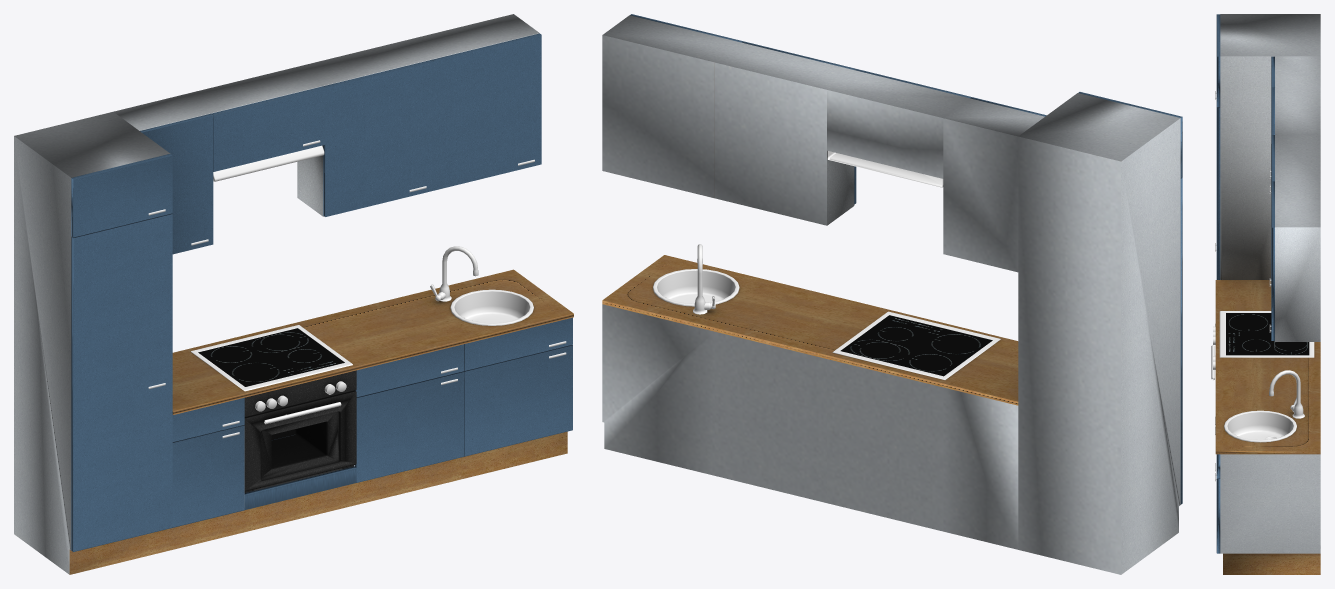
Rendered from kueche.fbx.
3 renders of one model, left to right at view 1: azimuth 30°, elevation 25°; view 2: azimuth 150°, elevation 25°; view 3: azimuth 270°, elevation 25°, orthographic. The views are drawn at different scales.
Parts seen in each view (by area): view 1: Mesh; view 2: Mesh; view 3: Mesh.
Boxes of the visible parts, x1,y1,x2,y2 form: Mesh: (14, 14, 573, 574); Mesh: (602, 14, 1182, 574); Mesh: (1211, 14, 1320, 574).
Size of the model in its own units: 277 by 211 by 60.
